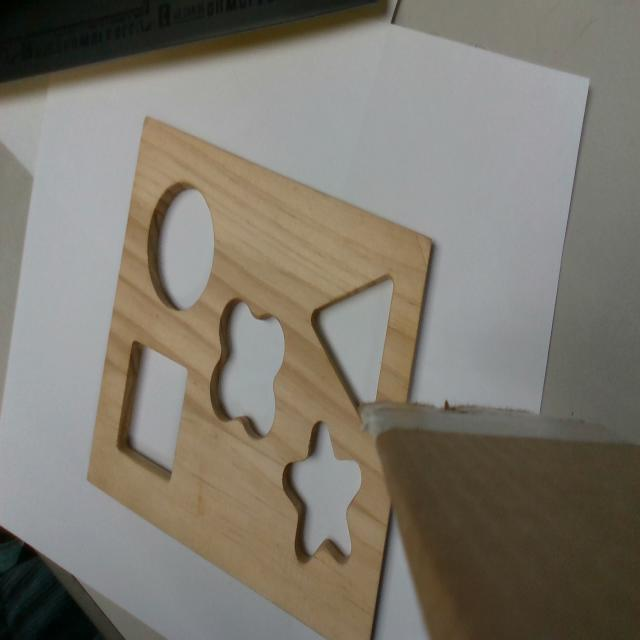circle: (147, 182, 215, 307)
flower: (211, 301, 285, 438)
square: (114, 339, 189, 480)
star: (283, 419, 362, 562)
triangle: (309, 272, 397, 429)
